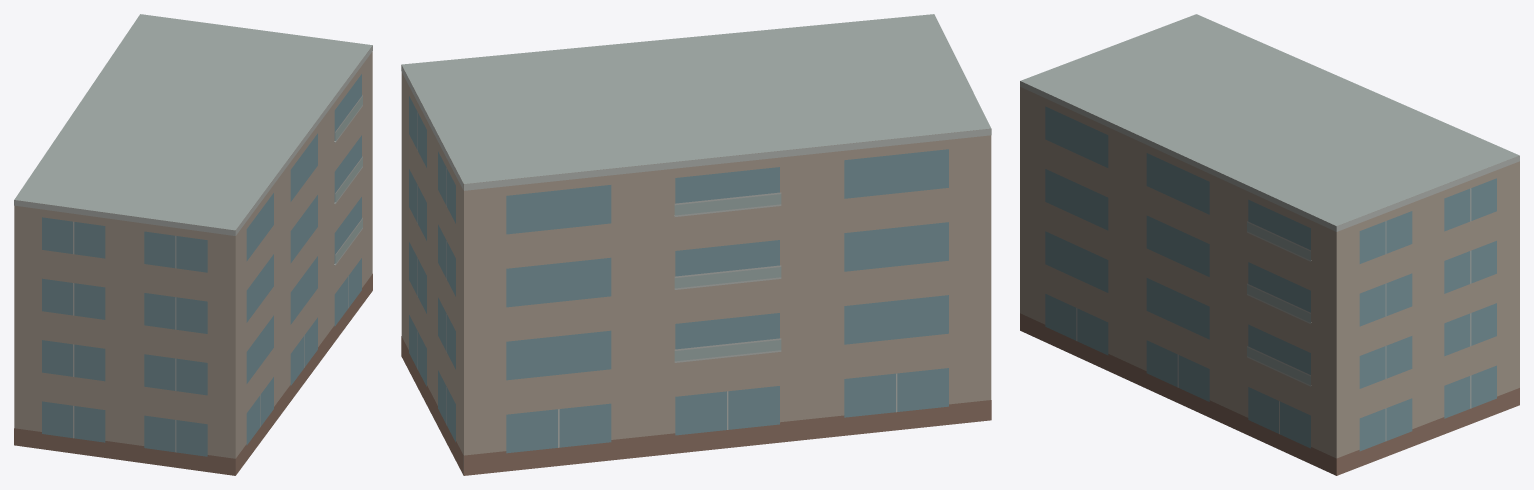
The model's file is survey-upis-32623872.glb.
3 views of the same model, side by side, from view 1: azimuth 30°, elevation 25°; view 2: azimuth 150°, elevation 25°; view 3: azimuth 270°, elevation 25° (orthographic). The views are drawn at different scales.
Visible parts, largest first — view 1: survey-upis-32623872.tmp; view 2: survey-upis-32623872.tmp; view 3: survey-upis-32623872.tmp.
Part boxes in pixels (x1=…): survey-upis-32623872.tmp: x1=14, y1=14, x2=372, y2=475; survey-upis-32623872.tmp: x1=401, y1=14, x2=991, y2=475; survey-upis-32623872.tmp: x1=1020, y1=14, x2=1519, y2=475.
Bounding box in the file's own units: 19.15 × 10.5 × 19.05.
